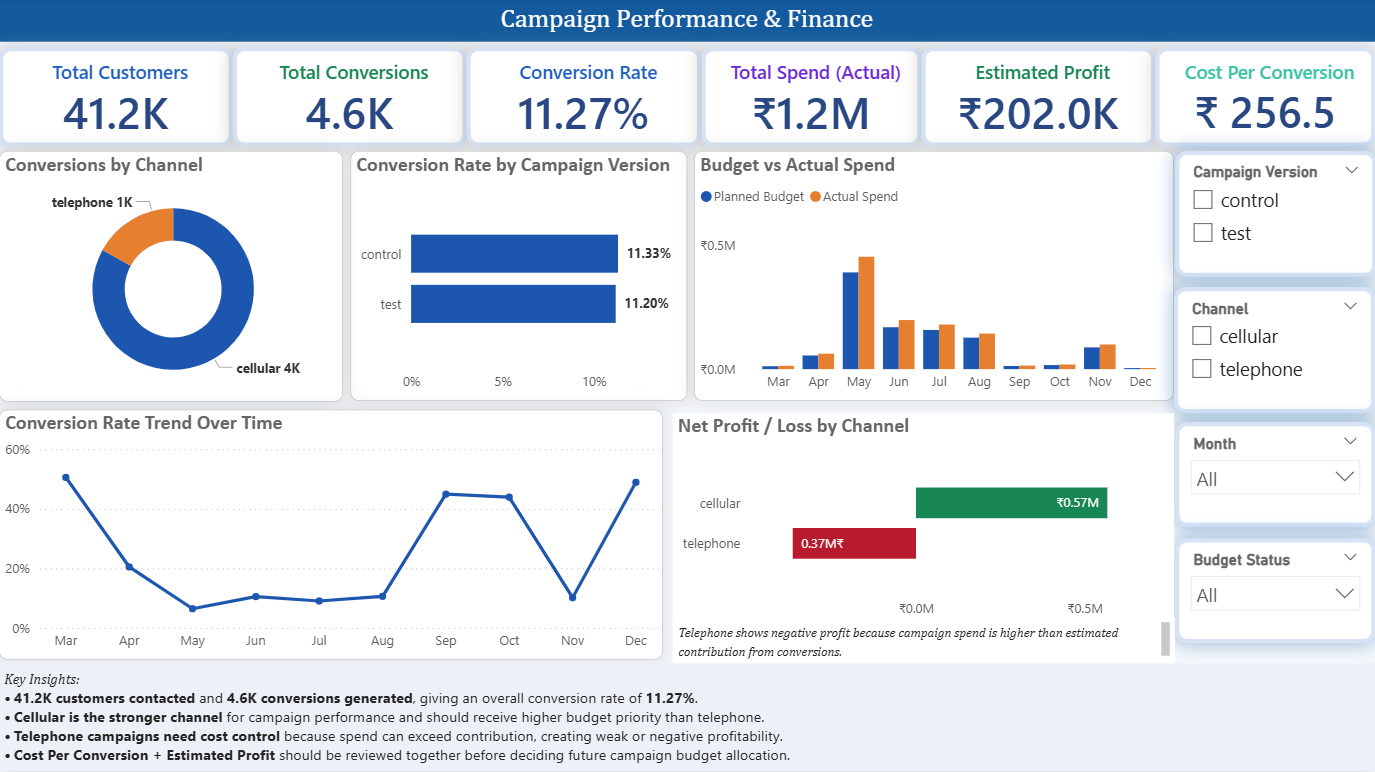

This screenshot's page, from the dashboard's own definition file:
{"tool":"powerbi","page":{"name":"Campaign Performance & Finance","canvas":[1280,720],"ordinal":0},"visuals":[{"type":"textbox","box":[0,0,1279.7,41.8],"z":0},{"type":"card","title":"Total Customers","fields":{"Values":["fact_experiment.Total Customers Contacted"]},"box":[0,47,217.4,93],"z":1000},{"type":"card","title":"Total Conversions","fields":{"Values":["fact_experiment.Total Converstion"]},"box":[217.4,46.5,217.4,93],"z":2000},{"type":"card","title":"Conversion Rate","fields":{"Values":["fact_experiment.Conversion Rate %"]},"box":[434.9,46.5,218.6,93],"z":3000},{"type":"card","title":"Total Spend (Actual)","fields":{"Values":["fact_experiment.Actual Spend"]},"box":[653.5,46.5,204.7,93],"z":4000},{"type":"card","title":"Estimated Profit","fields":{"Values":["fact_experiment.Estimated Profit"]},"box":[858.1,46.5,217.4,93],"z":5000},{"type":"card","title":"Cost Per Conversion","fields":{"Values":["fact_experiment.Cost Per Conversion"]},"box":[1075.6,46.5,204.7,93],"z":6000},{"type":"clusteredBarChart","title":"Conversion Rate by Campaign Version","fields":{"Category":["dim_campaign.campaign_version"],"Y":["fact_experiment.Conversion Rate %"]},"box":[326.7,143,314,232.6],"z":7000},{"type":"donutChart","title":"Conversions by Channel","fields":{"Category":["dim_campaign.channel"],"Y":["fact_experiment.Total Converstion"]},"box":[0,143,319.8,233.7],"z":8000},{"type":"clusteredColumnChart","title":"Budget vs Actual Spend","fields":{"Y":["fact_experiment.Planned Budget","fact_experiment.Actual Spend"],"Category":["dim_campaign.month_name"]},"box":[646.5,143,446.5,232.6],"z":9000},{"type":"lineChart","title":"Conversion Rate Trend Over Time","fields":{"Category":["dim_campaign.month_name"],"Y":["fact_experiment.Conversion Rate %"]},"box":[0,383.7,617.4,232.6],"z":10000},{"type":"slicer","title":"ROI","fields":{"Values":["dim_campaign.campaign_version"]},"box":[1093.7,142.6,187.2,117.4],"z":11000},{"type":"slicer","title":"ROI","fields":{"Values":["dim_campaign.channel"]},"box":[1093,269.8,187.2,117.4],"z":12000},{"type":"slicer","title":"ROI","fields":{"Values":["dim_campaign.month_name"]},"box":[1094.2,395,186,97.7],"z":13000},{"type":"slicer","title":"ROI","fields":{"Values":["dim_budget_status.budget_status"]},"box":[1093.9,504,186,97.7],"z":14000},{"type":"textbox","box":[0,619.8,1280.2,100],"z":15000},{"type":"clusteredBarChart","title":"Net Profit / Loss by Channel","fields":{"Category":["dim_campaign.channel"],"Y":["fact_experiment.Estimated Profit"]},"box":[626.5,387.7,466.3,200],"z":16000},{"type":"textbox","box":[626.5,577.2,467.4,43],"z":17000}]}

Visuals, with their boxes in screenshot pixels (x1, y1, x2, y2), scaled from the page's 1280x720 canvas onto the 1375x772 screenshot:
textbox: 0, 0, 1374, 45
"Total Customers" card: 0, 50, 234, 150
"Total Conversions" card: 234, 50, 467, 150
"Conversion Rate" card: 467, 50, 702, 150
"Total Spend (Actual)" card: 702, 50, 922, 150
"Estimated Profit" card: 922, 50, 1155, 150
"Cost Per Conversion" card: 1155, 50, 1374, 150
"Conversion Rate by Campaign Version" clusteredBarChart: 351, 153, 688, 403
"Conversions by Channel" donutChart: 0, 153, 344, 404
"Budget vs Actual Spend" clusteredColumnChart: 694, 153, 1174, 403
"Conversion Rate Trend Over Time" lineChart: 0, 411, 663, 661
"ROI" slicer: 1175, 153, 1374, 279
"ROI" slicer: 1174, 289, 1374, 415
"ROI" slicer: 1175, 424, 1374, 528
"ROI" slicer: 1175, 540, 1374, 645
textbox: 0, 665, 1374, 771
"Net Profit / Loss by Channel" clusteredBarChart: 673, 416, 1174, 630
textbox: 673, 619, 1175, 665
